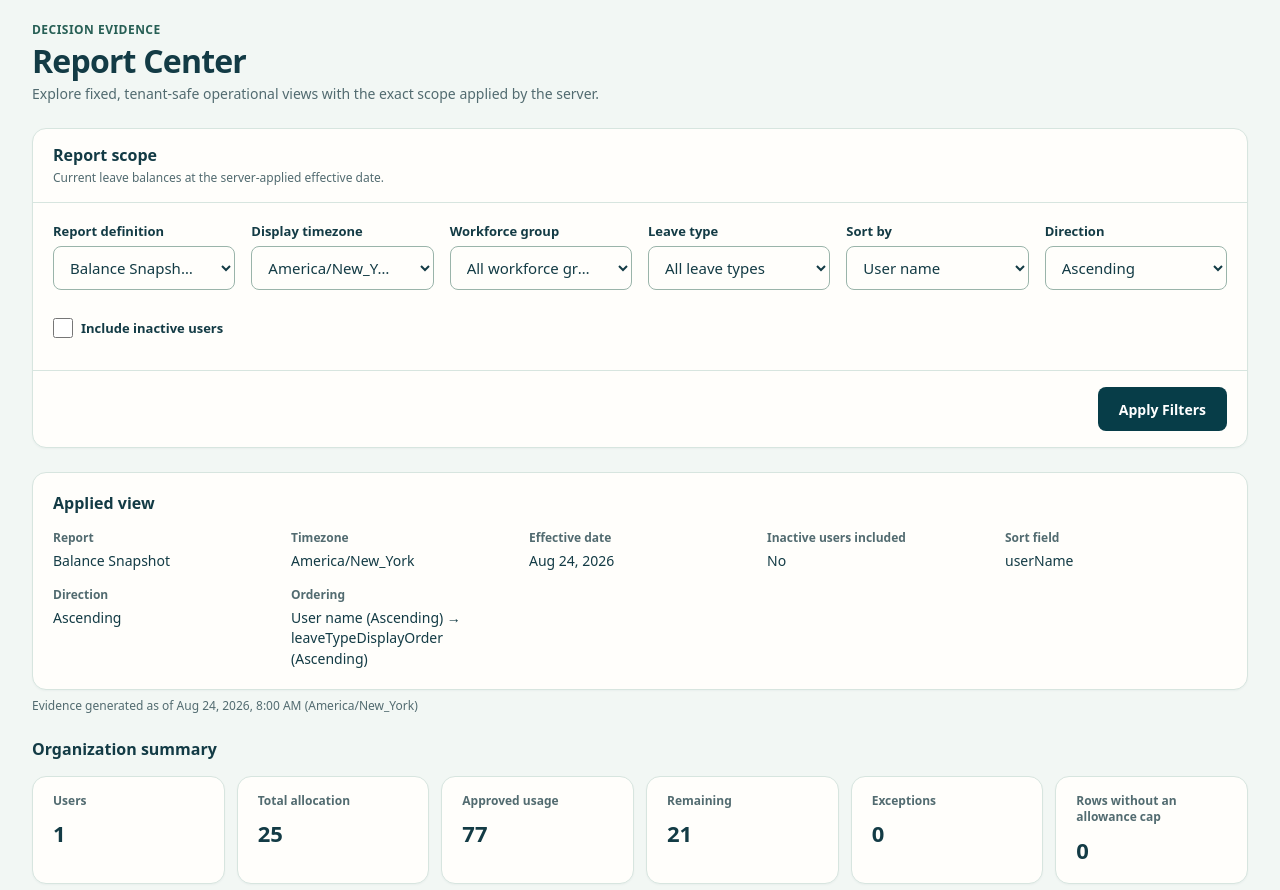
Test: ReportCenterPage › [P0] renders EXCEPTION with its own columns, labels, and values
Select "Exceptions" in the dropdown labelled "Report definition" at (144,268), box [53,246,235,290]
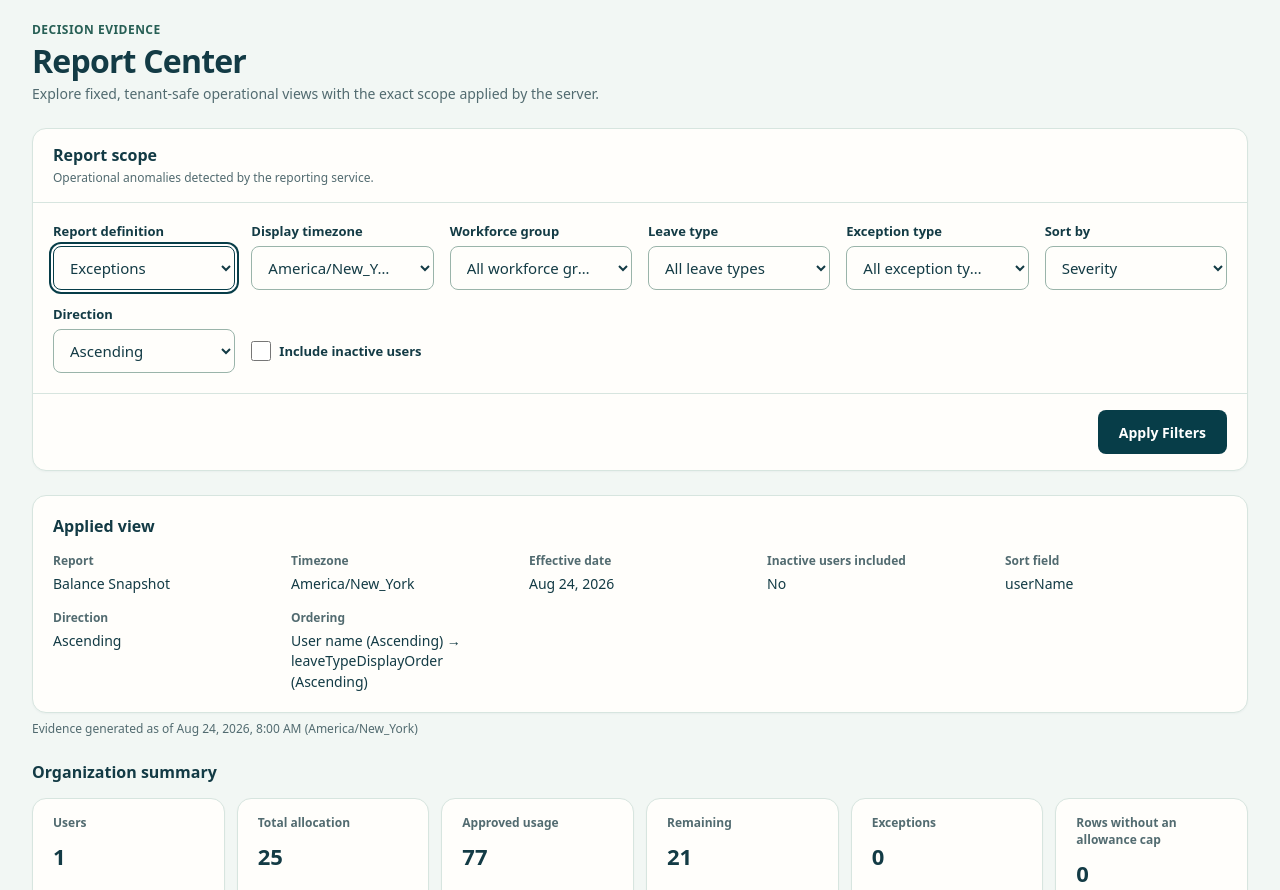
Click the button "Apply Filters" at (1162,432), box [1098,410,1227,454]
(page scrolled)
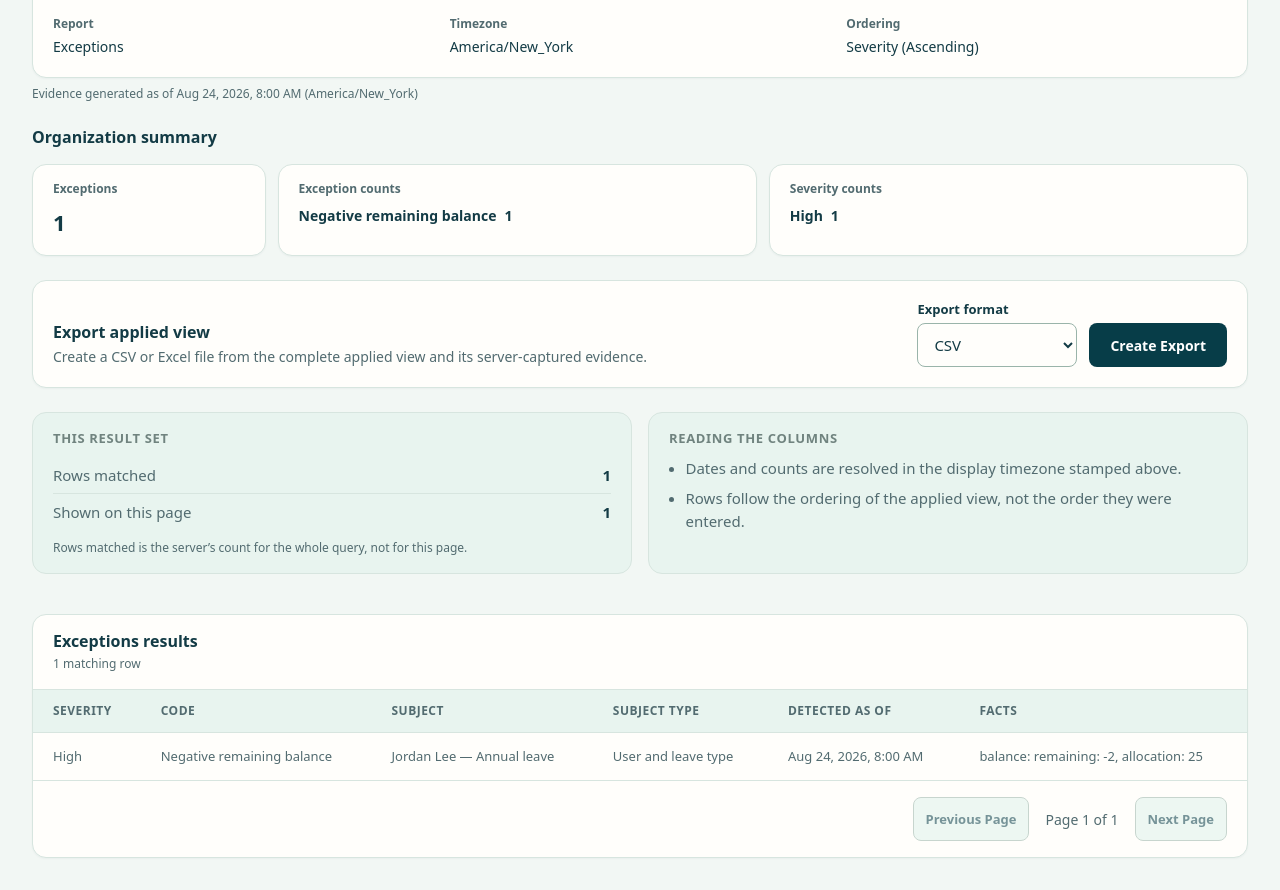
Check: the cell does not show ""
Check: the column heading "Facts" is shown, box [959,690,1247,732]
Check: the row with test id "report-row-0" shows "Negative remaining balance", box [161,746,332,764]
